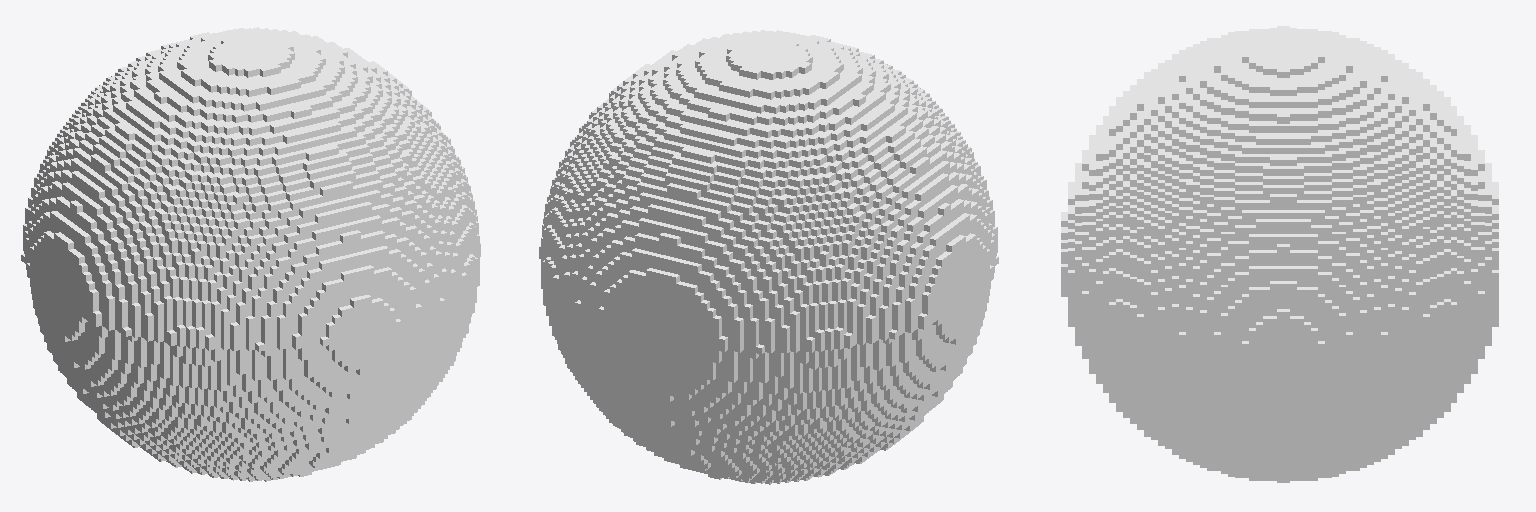
Rendered from globe-members.obj.
3 views of the same model, side by side, from view 1: azimuth 30°, elevation 25°; view 2: azimuth 150°, elevation 25°; view 3: azimuth 270°, elevation 25° (orthographic).
Parts seen in each view (by area): view 1: globe-members; view 2: globe-members; view 3: globe-members.
Part boxes in pixels (x1,y1,x2,y2): globe-members: (21, 27, 480, 481); globe-members: (539, 30, 998, 484); globe-members: (1061, 26, 1498, 482).
Size of the model in its own units: 64 by 64 by 63.